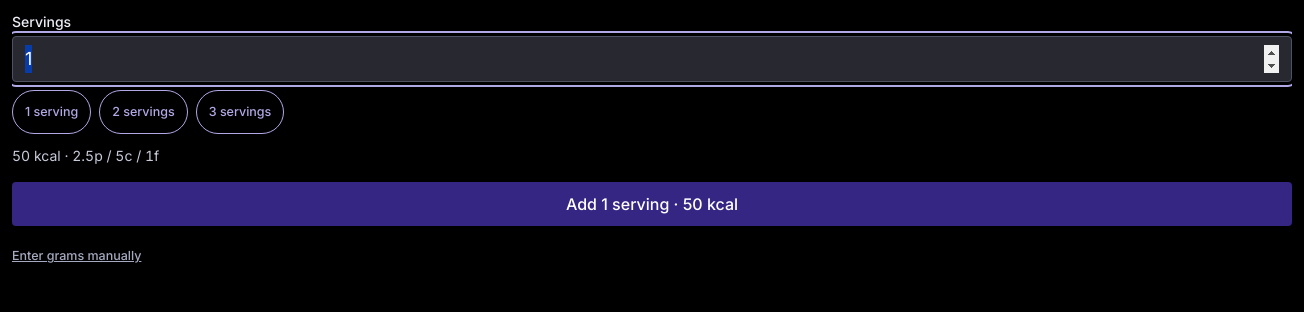
ServingPortionStep › does not submit a duplicate while a save is pending and keeps errors actionable
What coordinates should you click on to do the following:
click the button with test id "log-entry-button"
I would click on:
 (652, 204)
Its box is [12, 182, 1292, 226].
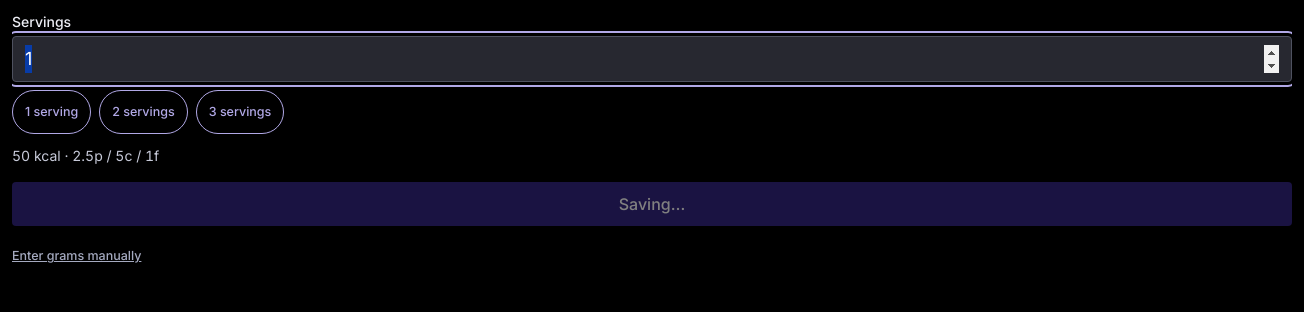
What coordinates should you click on to do the following:
click the button with test id "log-entry-button"
I would click on:
 (652, 204)
Its box is [12, 182, 1292, 226].
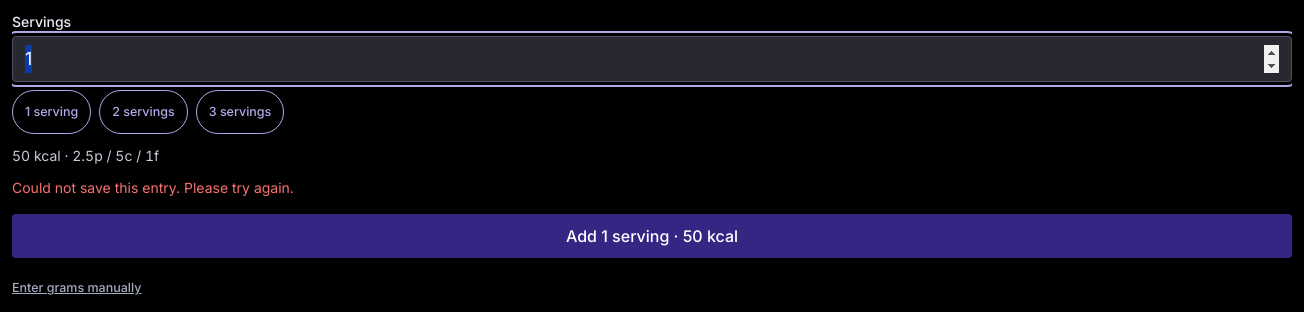
Expected: the message shows "Could not save", [12, 179, 294, 196]
Expected: the button with test id "log-entry-button" is enabled, [12, 214, 1292, 258]
